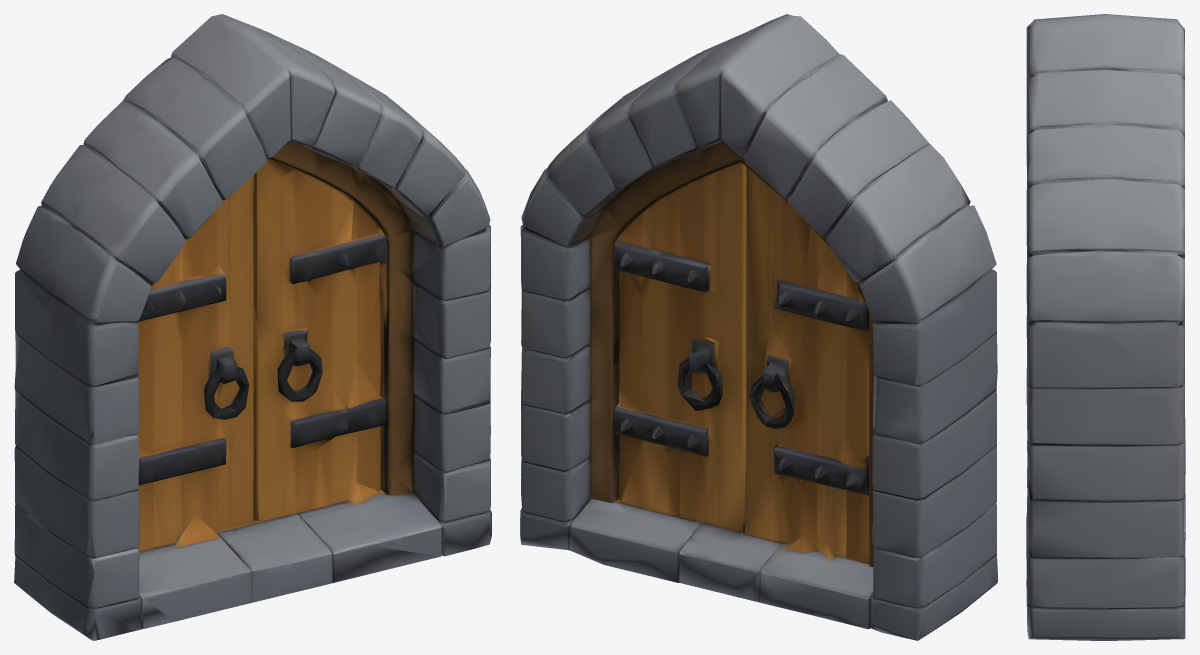
The model's file is entrance-pointed.glb.
3 views of the same model, side by side, from view 1: azimuth 30°, elevation 25°; view 2: azimuth 150°, elevation 25°; view 3: azimuth 270°, elevation 25° (orthographic).
Visible parts, largest first — view 1: Stone surround and oak lining; view 2: Stone surround and oak lining; view 3: Stone surround and oak lining.
Part boxes in pixels (left/top/right/bottom): Stone surround and oak lining: left=14, top=14, right=491, bottom=640; Stone surround and oak lining: left=520, top=14, right=997, bottom=640; Stone surround and oak lining: left=1026, top=14, right=1185, bottom=640.
Size of the model in its own units: 2.62 by 3.23 by 0.8858.
Materials: 1 (1 with a texture image).
